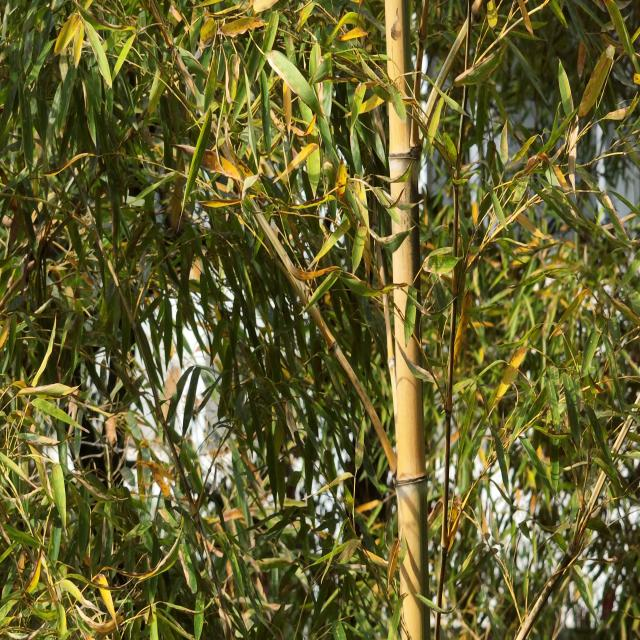Bamboo-shoots: (384, 0, 431, 640)
